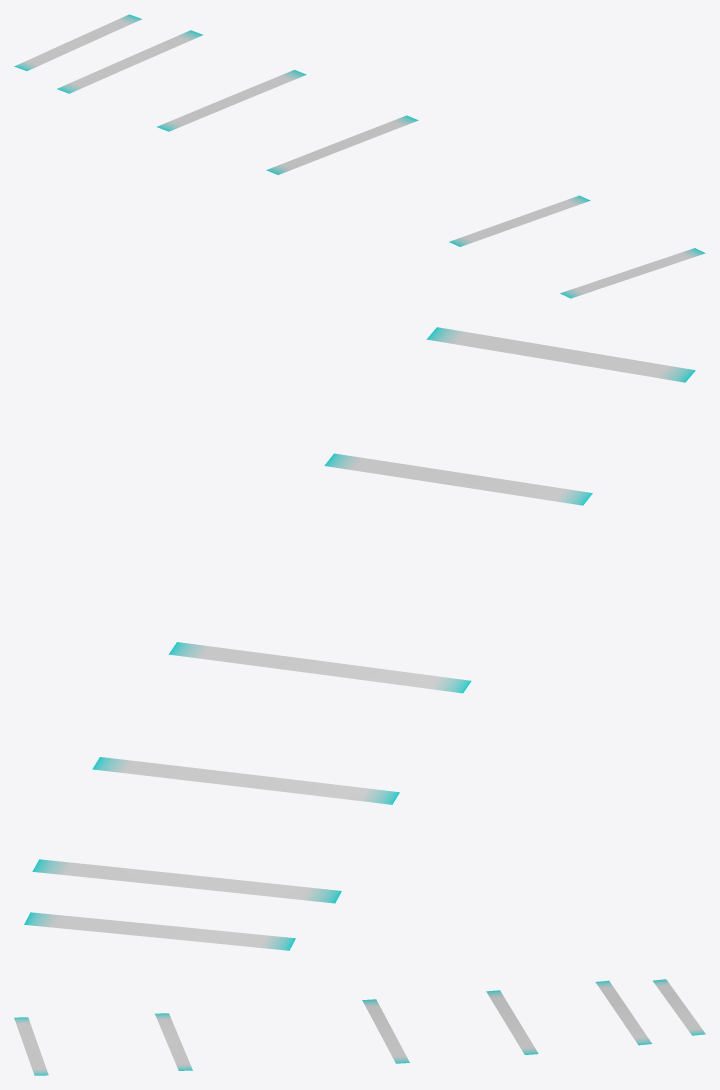
3 renders of one model, top to bottom at view 1: azimuth 30°, elevation 25°; view 2: azimuth 150°, elevation 25°; view 3: azimuth 270°, elevation 25°, orthographic. The views are drawn at different scales.
Visible parts, largest first — view 1: SpaceCenter_Long3_GenerateRoad_Asphalt_PCGMesh_Decal_Mesh_x8; view 2: SpaceCenter_Long3_GenerateRoad_Asphalt_PCGMesh_Decal_Mesh_x8; view 3: SpaceCenter_Long3_GenerateRoad_Asphalt_PCGMesh_Decal_Mesh_x8.
Boxes of the visible parts, x1,y1,x2,y2 form: SpaceCenter_Long3_GenerateRoad_Asphalt_PCGMesh_Decal_Mesh_x8: (14, 14, 705, 298); SpaceCenter_Long3_GenerateRoad_Asphalt_PCGMesh_Decal_Mesh_x8: (24, 327, 695, 950); SpaceCenter_Long3_GenerateRoad_Asphalt_PCGMesh_Decal_Mesh_x8: (14, 979, 705, 1075).
Size of the model in its own units: 1725 by 697 by 59.39.
